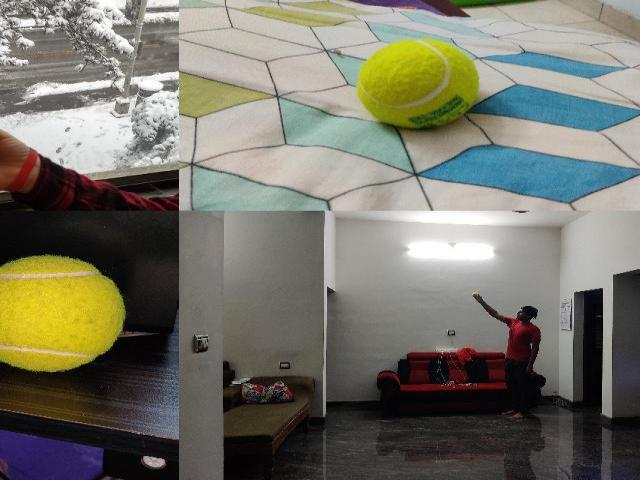tennis-ball: (0, 253, 126, 374), (357, 38, 480, 129), (472, 292, 478, 296)
